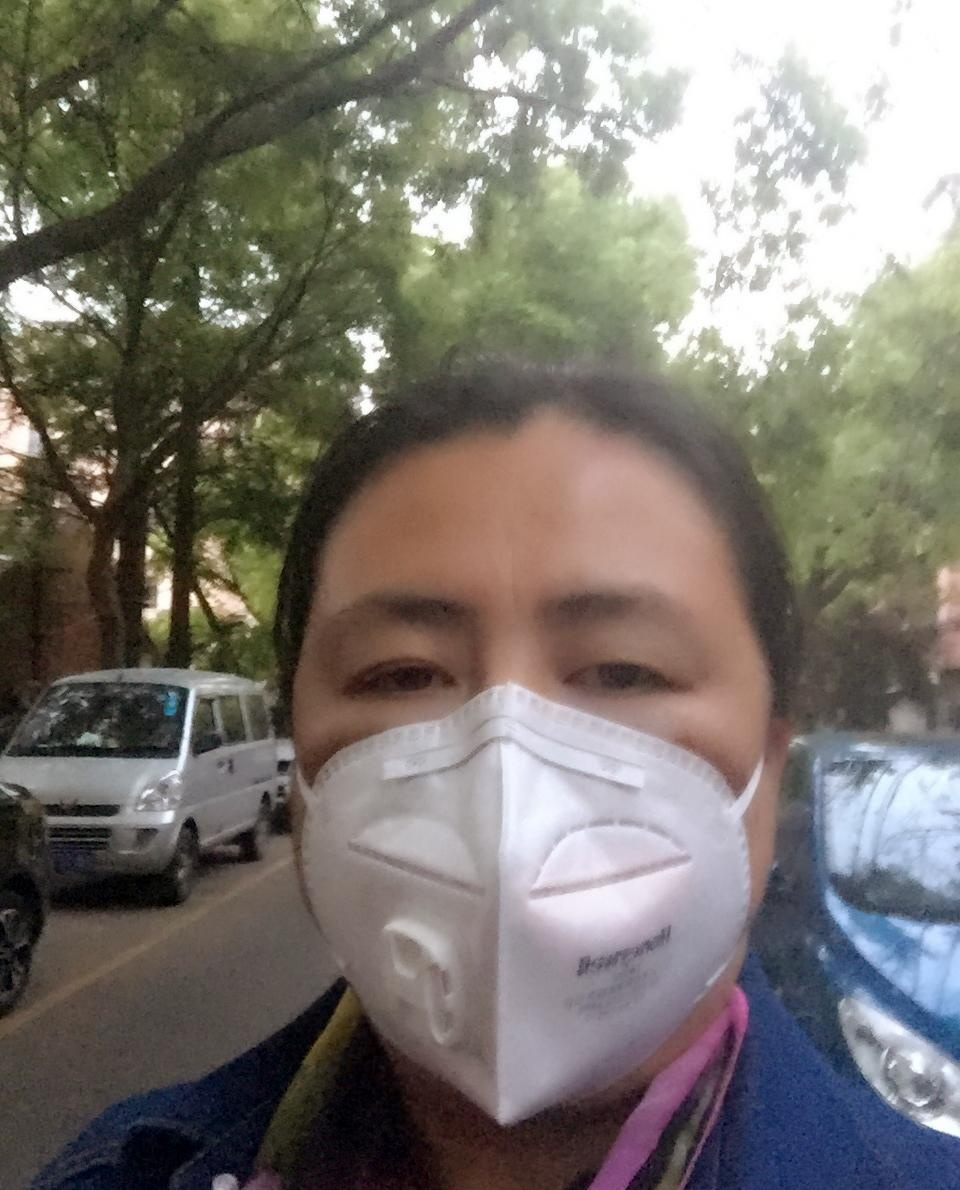Mask: (275, 576, 807, 1108)
